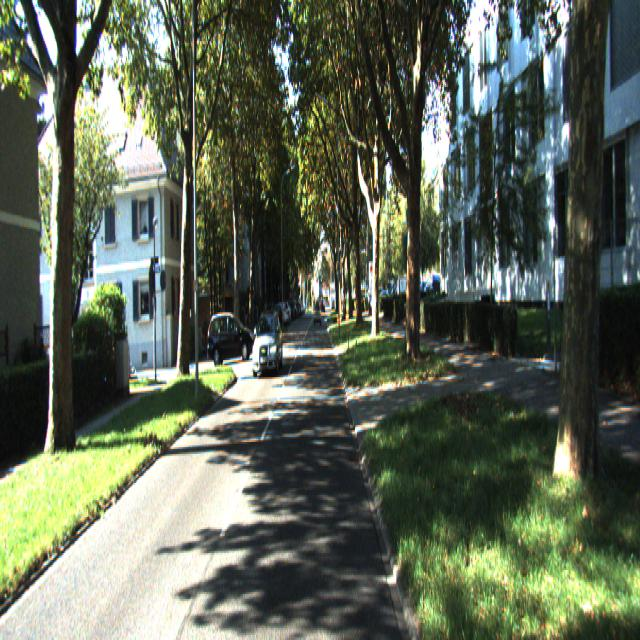Car: (208, 314, 256, 369), (251, 314, 283, 379)
